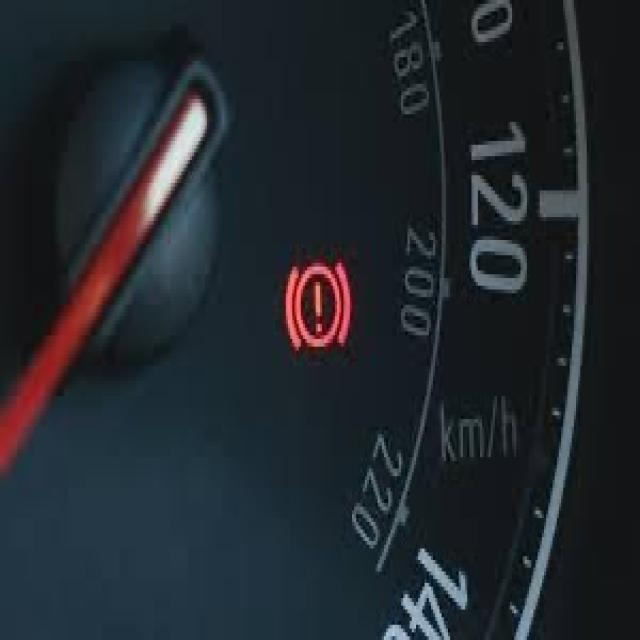kontrolka: (274, 240, 366, 366)
